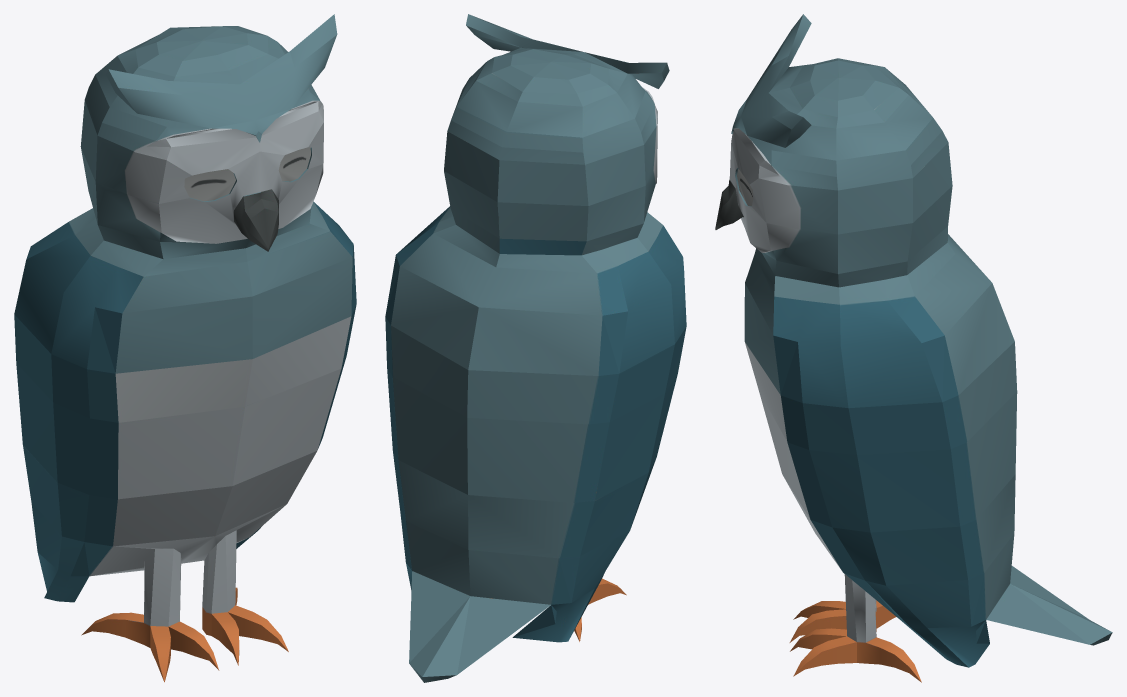
File: Old_Owl.fbx
The picture shows the model from 3 angles, left to right: view 1: azimuth 30°, elevation 25°; view 2: azimuth 150°, elevation 25°; view 3: azimuth 270°, elevation 25°; orthographic projection. The views are drawn at different scales.
Parts seen in each view (by area): view 1: Old_Owl; view 2: Old_Owl; view 3: Old_Owl.
Part boxes in pixels (left/top/right/bottom): Old_Owl: left=14, top=14, right=356, bottom=682; Old_Owl: left=385, top=14, right=686, bottom=682; Old_Owl: left=715, top=14, right=1112, bottom=682.
Bounding box in the file's own units: 55.28 × 112 × 69.55.
1 material, 1 textured.
